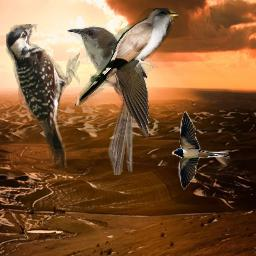Cuckoo: (67, 25, 149, 175), (75, 8, 181, 106)
Swallow: (172, 111, 230, 190)
Woodpecker: (6, 24, 80, 169)
